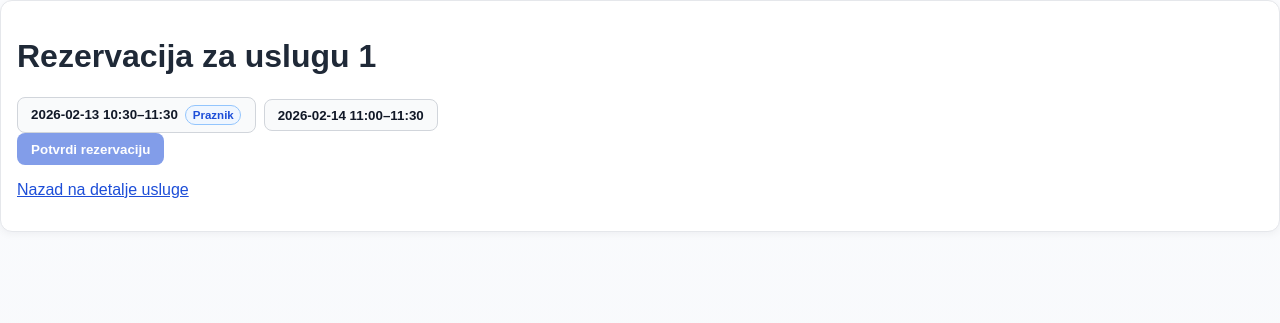
ServiceBooking › renders slots, shows holiday badge, and updates selected text
Check: the button "2026-02-14 11:00–11:30" is shown, box [264,100,438,131]
Check: the text "Praznik" is shown, box [185,105,242,125]
Click the button "2026-02-13 10:30–11:30 Praznik" at {"x": 136, "y": 115}, box [17,97,256,133]
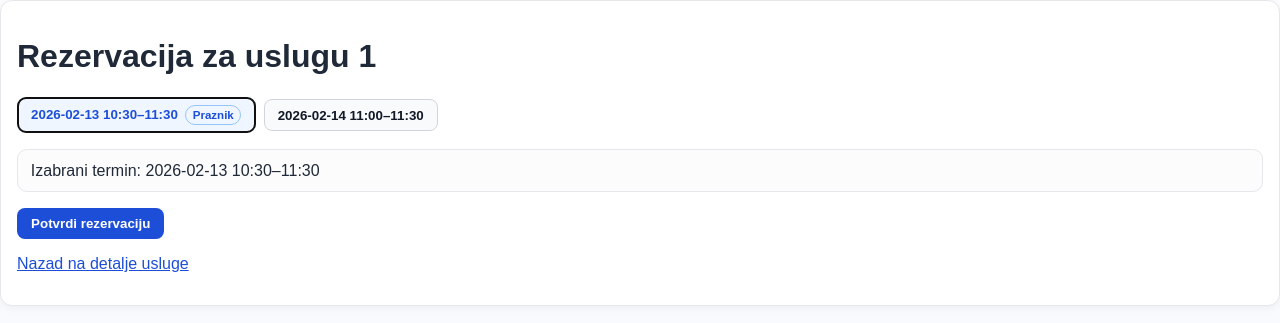
Check: the text "Izabrani termin: 2026-02-13 10:30–11:30" is shown, box [17,149,1263,192]
